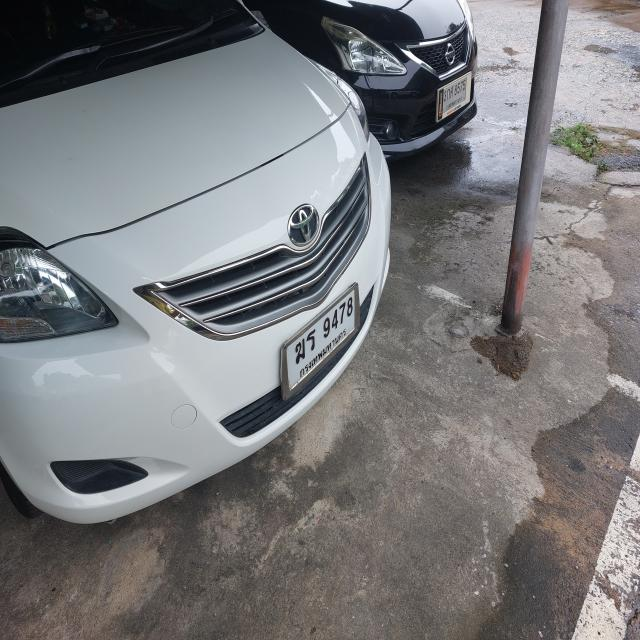license_plate: (278, 280, 361, 404)
